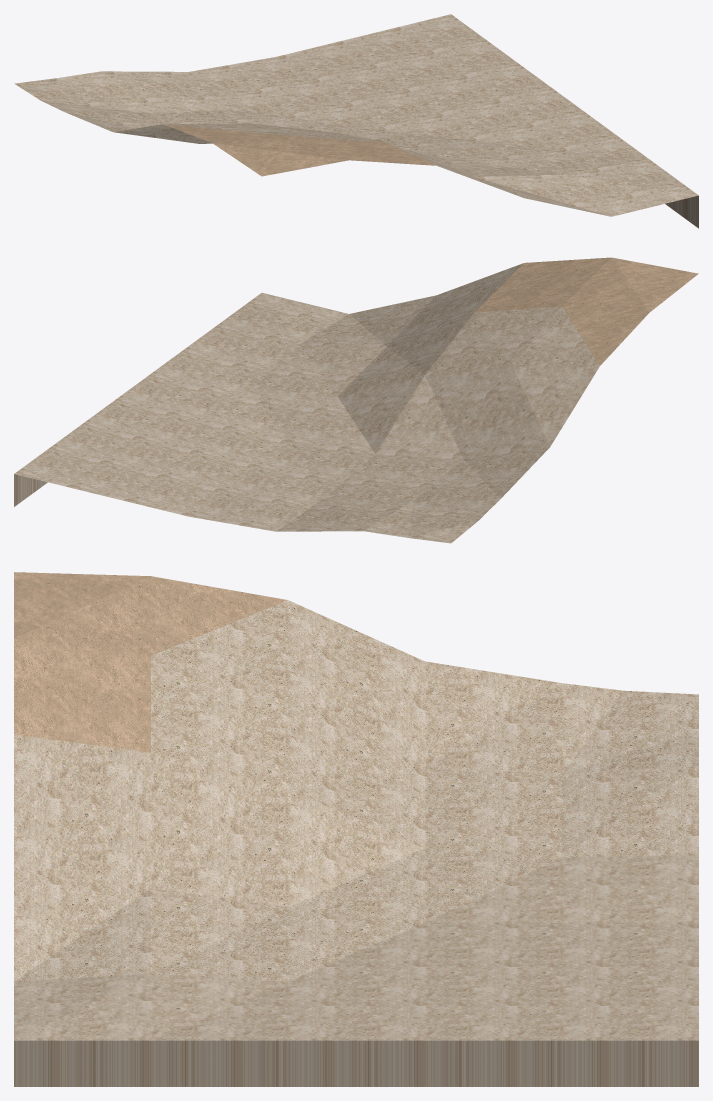
File: sbcs_landbit_46.obj
3 views of the same model, one above another, from view 1: azimuth 30°, elevation 25°; view 2: azimuth 150°, elevation 25°; view 3: azimuth 270°, elevation 25° (orthographic). The views are drawn at different scales.
Visible parts, largest first — view 1: sbcs_landbit_46; view 2: sbcs_landbit_46; view 3: sbcs_landbit_46.
Boxes of the visible parts, x1,y1,x2,y2 form: sbcs_landbit_46: (14,14,698,228); sbcs_landbit_46: (14,257,698,543); sbcs_landbit_46: (14,572,698,1086).
Size of the model in its own units: 229 by 79.51 by 225.
